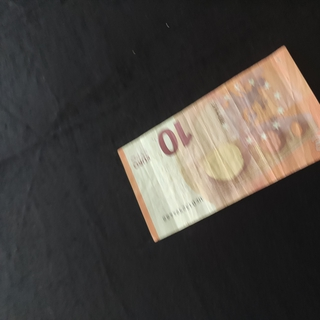10EUROBack: (116, 45, 320, 243)
